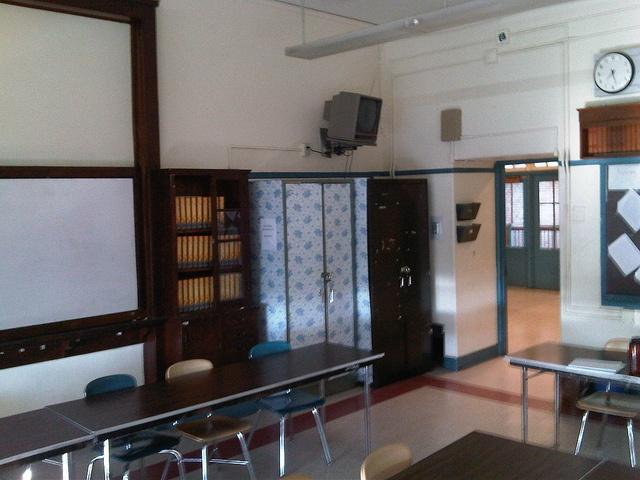Lemari: (365, 177, 434, 387), (283, 180, 356, 353)
Meja: (43, 341, 384, 479), (505, 340, 639, 391)
